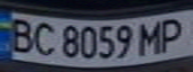0: (78, 22, 100, 61)
5: (97, 24, 118, 61)
8: (57, 22, 81, 60)
9: (112, 21, 139, 60)
B: (3, 16, 39, 53)
C: (27, 20, 60, 56)
M: (136, 18, 169, 55)
P: (154, 15, 190, 53)
